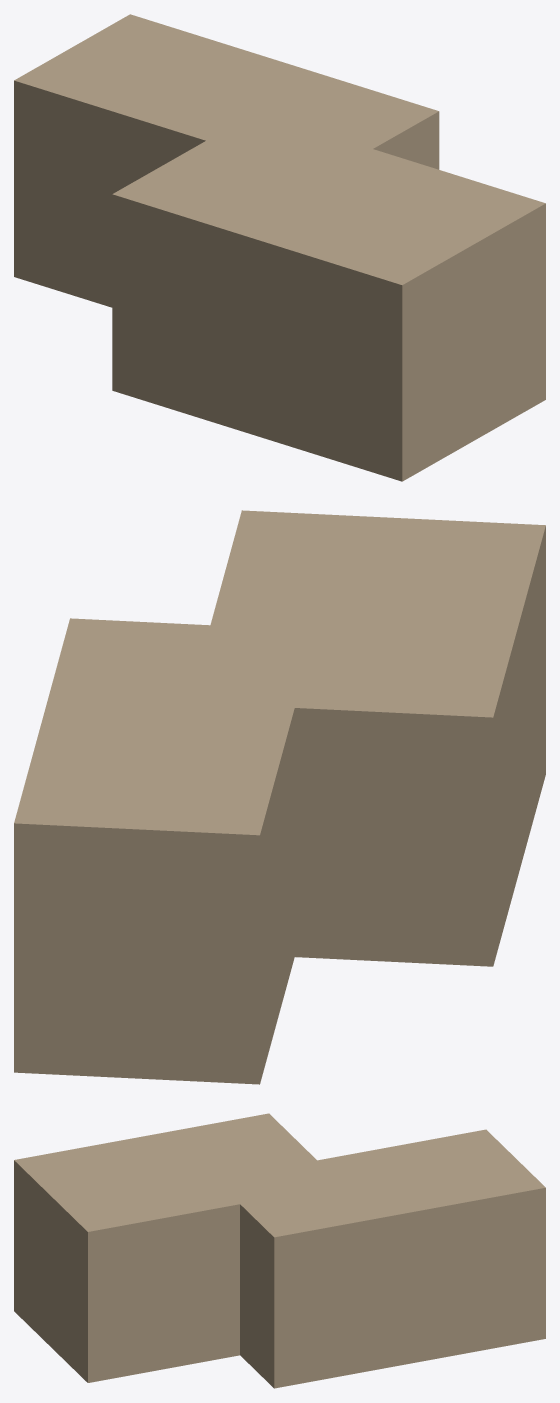
File: bld_106456057.dae
3 views of the same model, one above another, from view 1: azimuth 30°, elevation 25°; view 2: azimuth 150°, elevation 25°; view 3: azimuth 270°, elevation 25° (orthographic). The views are drawn at different scales.
Visible parts, largest first — view 1: bld_106456057; view 2: bld_106456057; view 3: bld_106456057.
Part boxes in pixels (x1=…): bld_106456057: x1=14, y1=14, x2=545, y2=481; bld_106456057: x1=14, y1=510, x2=545, y2=1084; bld_106456057: x1=14, y1=1113, x2=545, y2=1388.
Size of the model in its own units: 14.08 by 25.52 by 8.
